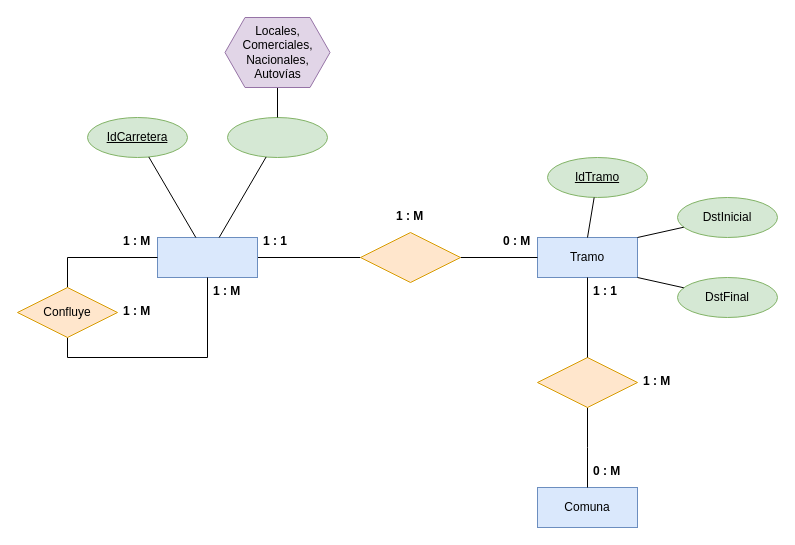
Image size: 795x545. Some labels were removed from this diagram. Here are the shapes that lost their labels. From the top down, the box of each, then its label:
(226, 116, 328, 158): Categorias
(156, 236, 258, 278): Carretera
(360, 232, 460, 282): Divide
(536, 356, 638, 408): Pasan
